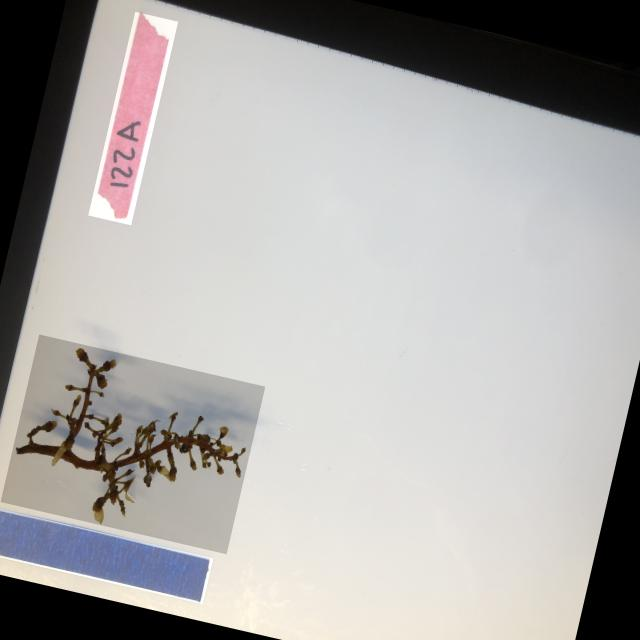index: (88, 10, 178, 224)
measure_label: (0, 506, 213, 603)
rachis_cluster: (0, 333, 265, 553)
